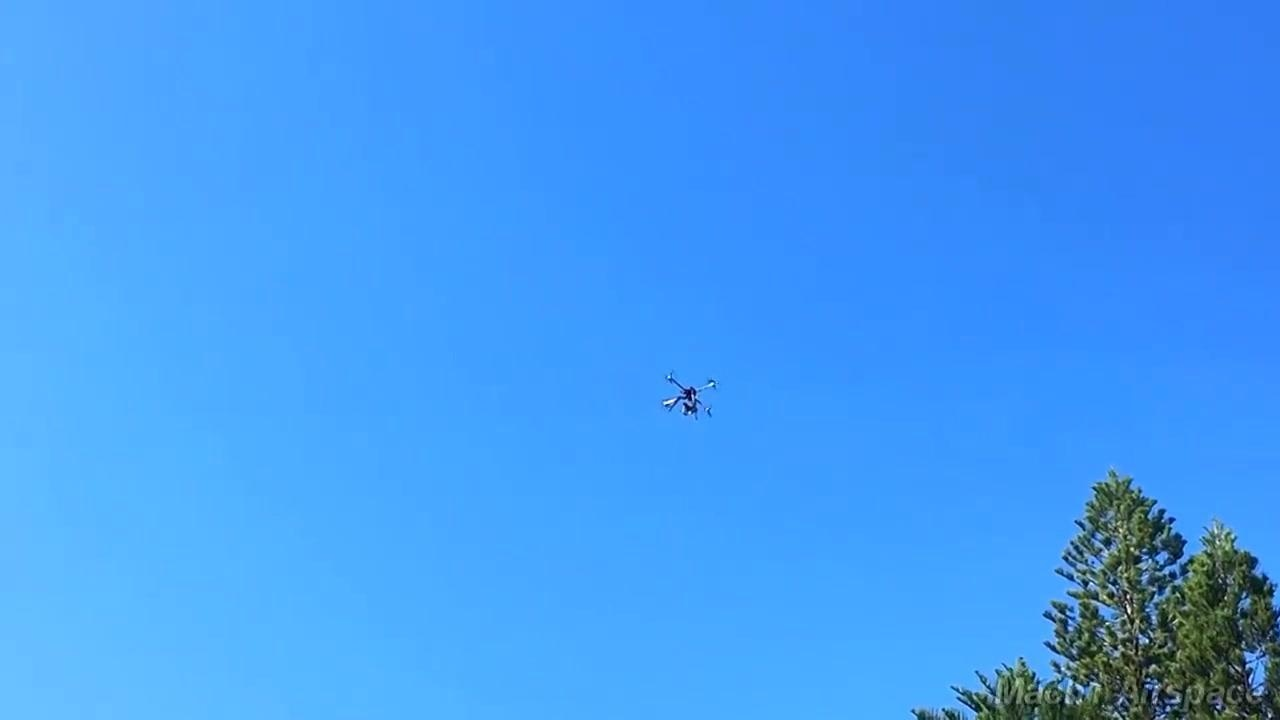UAV: (663, 371, 719, 421)
